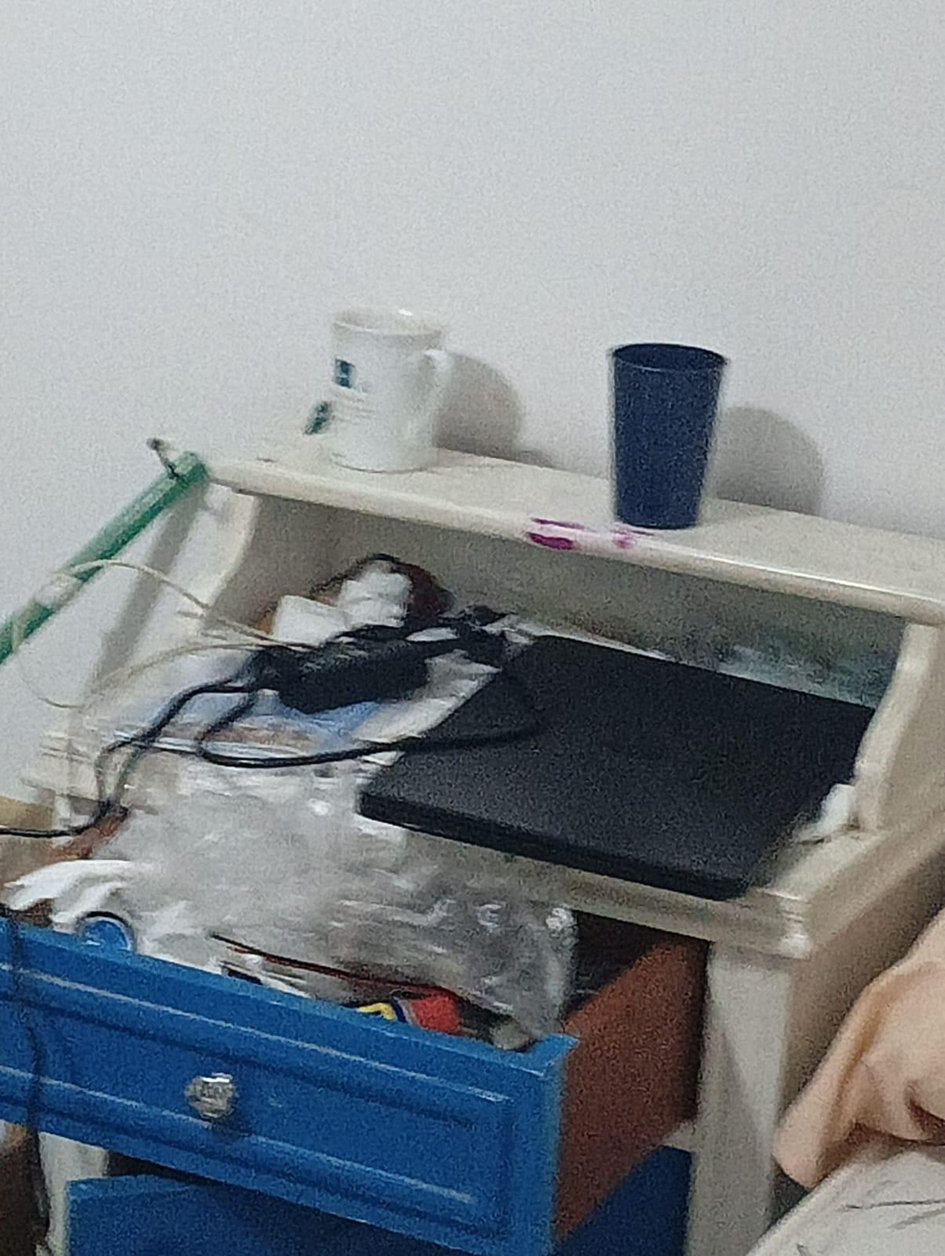cup: (611, 345, 725, 528), (328, 309, 451, 471)
